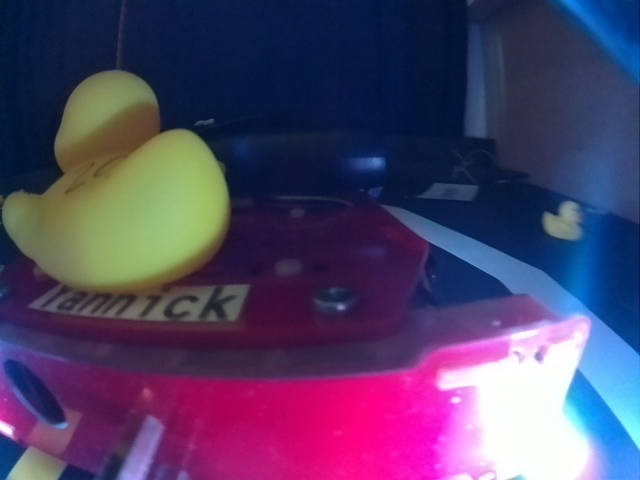Duckie: (5, 74, 229, 291), (543, 203, 583, 240)
Duckiebot: (1, 185, 593, 478)
